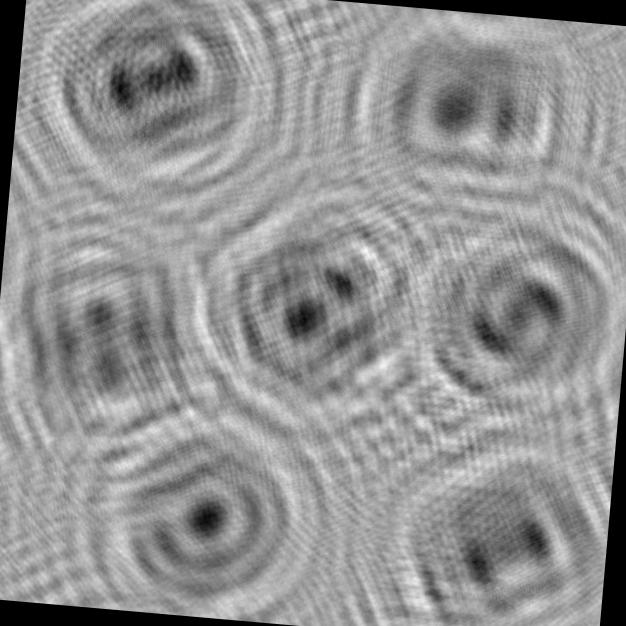B: (8, 0, 308, 232)
E: (363, 423, 615, 626)
F: (327, 2, 605, 242)
H: (0, 220, 251, 482)
P: (54, 401, 339, 626)
R: (164, 166, 450, 456)
S: (375, 187, 626, 462)
